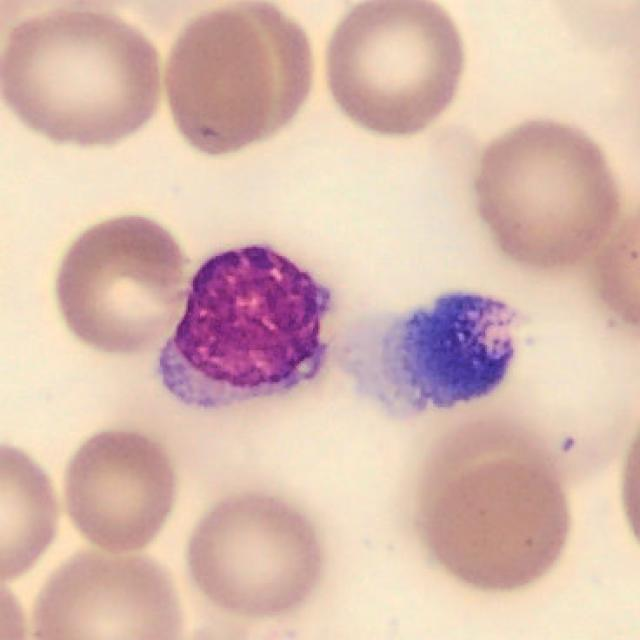Linfocito: (162, 247, 329, 404)
